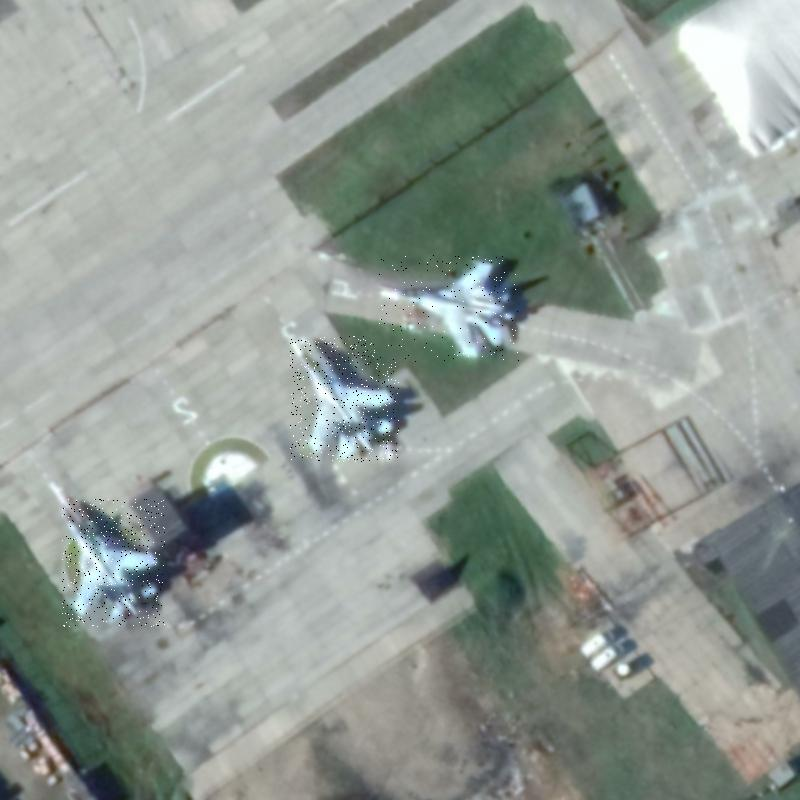A1: (378, 255, 519, 362), (290, 336, 399, 462), (62, 499, 165, 627)
